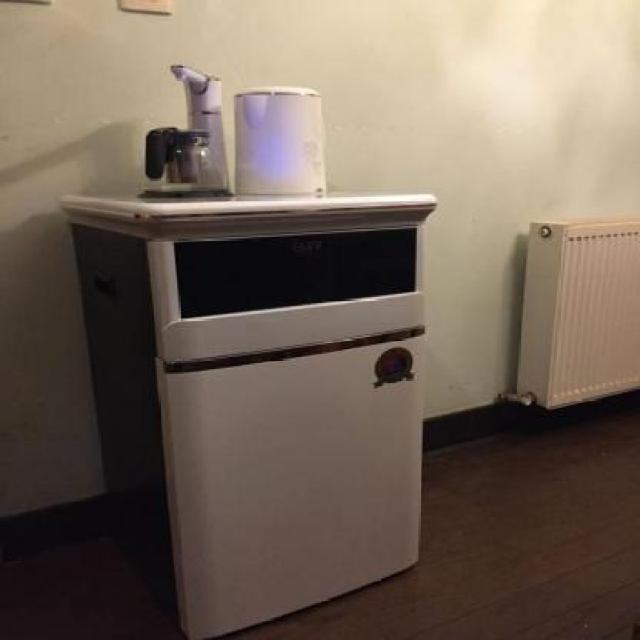cooler: (59, 58, 438, 640)
